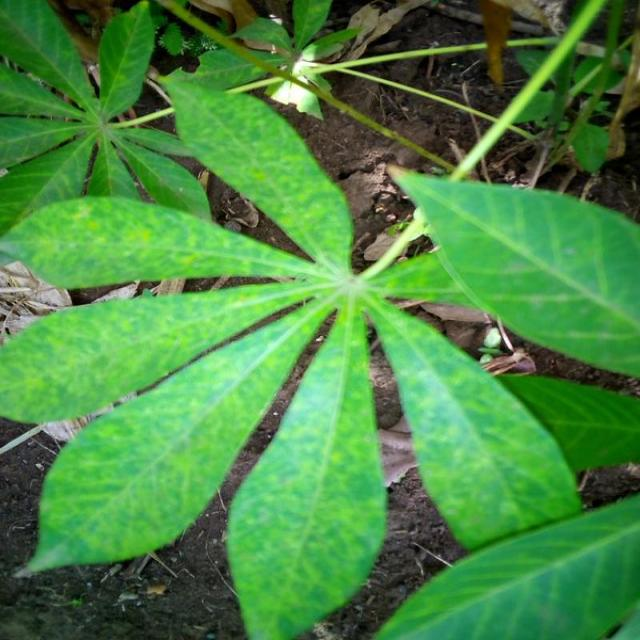cassava leaf: (1, 62, 637, 637), (18, 290, 330, 577), (363, 289, 583, 552), (384, 160, 639, 378), (225, 301, 388, 638), (157, 66, 354, 275), (371, 492, 638, 638)
